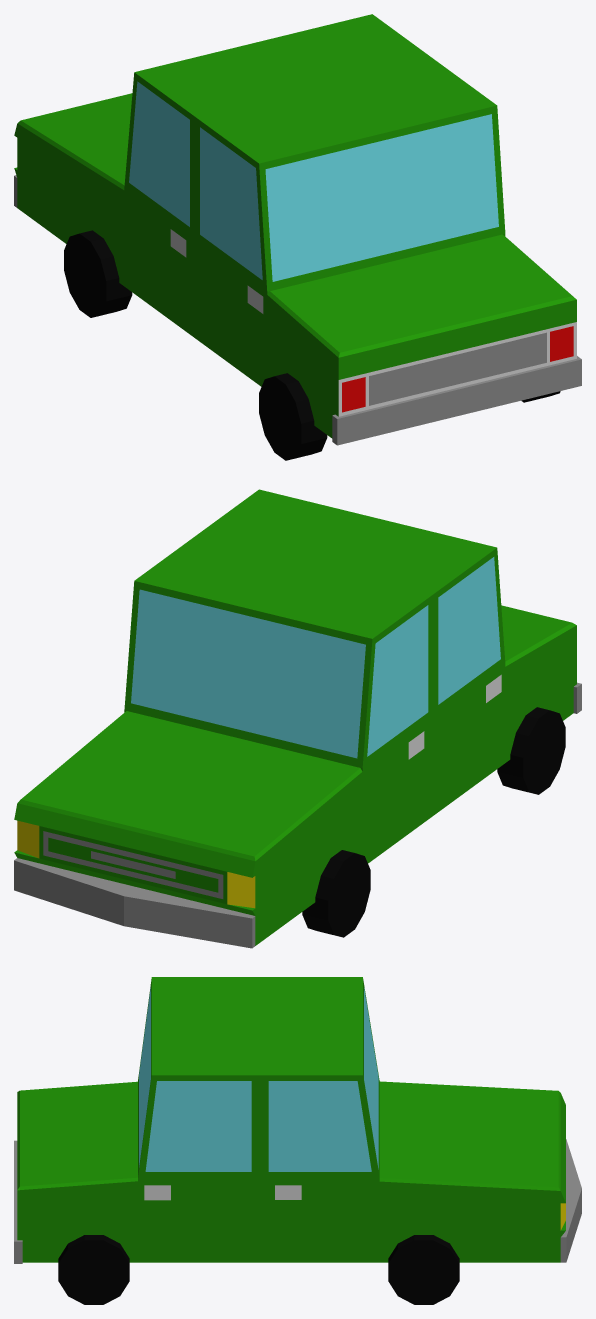
The model's file is Car_Green.fbx.
3 views of the same model, one above another, from view 1: azimuth 30°, elevation 25°; view 2: azimuth 150°, elevation 25°; view 3: azimuth 270°, elevation 25° (orthographic). The views are drawn at different scales.
Visible parts, largest first — view 1: Model; view 2: Model; view 3: Model.
Boxes of the visible parts, box(x1,y1,x2,y2) form: Model: box(14, 14, 581, 460); Model: box(14, 489, 581, 948); Model: box(14, 977, 581, 1304).
Size of the model in its own units: 30.34 by 29.07 by 66.76.
